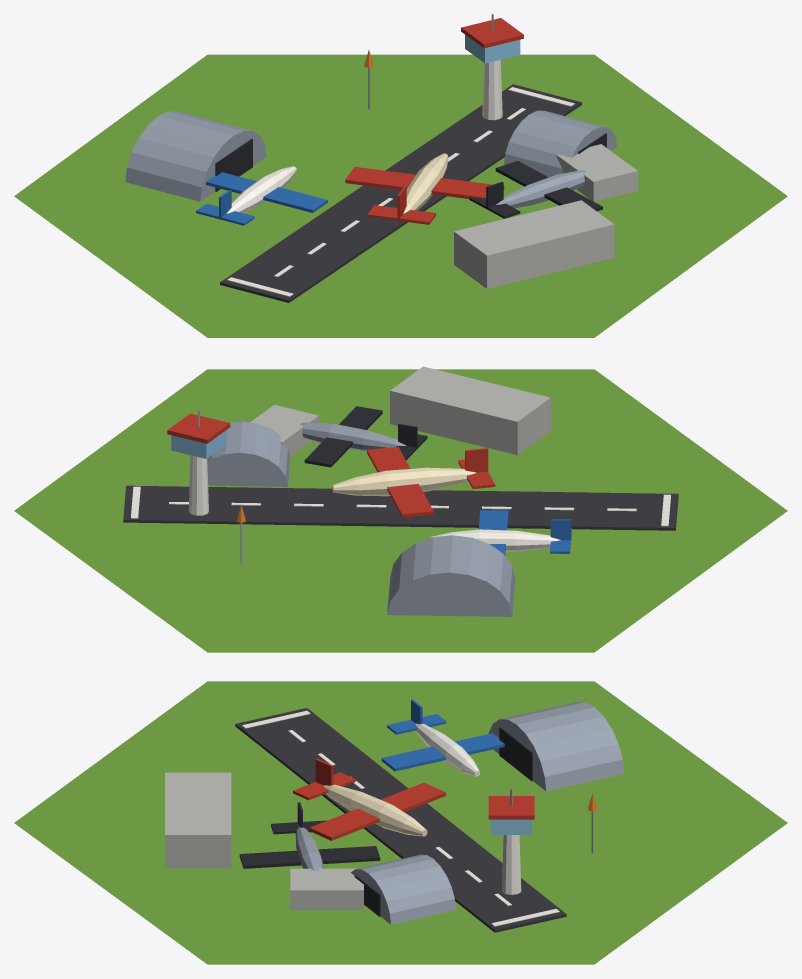
The model's file is district_aerodrome_3.fbx.
3 views of the same model, one above another, from view 1: azimuth 30°, elevation 25°; view 2: azimuth 150°, elevation 25°; view 3: azimuth 270°, elevation 25° (orthographic).
Parts seen in each view (by area): view 1: district_aerodrome_3; view 2: district_aerodrome_3; view 3: district_aerodrome_3.
Part boxes in pixels (x1,y1,x2,y2): district_aerodrome_3: (14,14,787,337); district_aerodrome_3: (14,366,787,652); district_aerodrome_3: (14,681,787,964).
Bounding box in the file's own units: 182 × 31.6 × 210.
